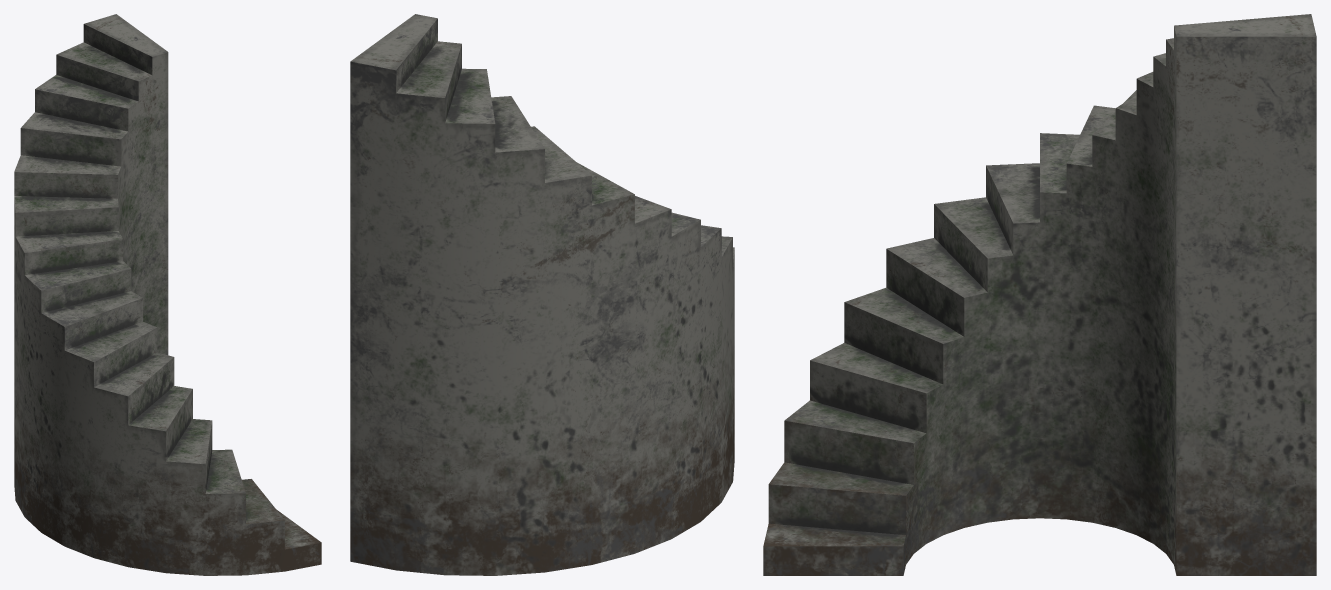
Rendered from Stars_LP.fbx.
The picture shows the model from 3 angles, left to right: view 1: azimuth 30°, elevation 25°; view 2: azimuth 150°, elevation 25°; view 3: azimuth 270°, elevation 25°; orthographic projection. The views are drawn at different scales.
Parts seen in each view (by area): view 1: Stairs_LP; view 2: Stairs_LP; view 3: Stairs_LP.
Part boxes in pixels (<box>): Stairs_LP: <box>14,14,321,575</box>; Stairs_LP: <box>350,14,734,575</box>; Stairs_LP: <box>763,14,1316,575</box>.
Size of the model in its own units: 680 by 1463 by 1361.
